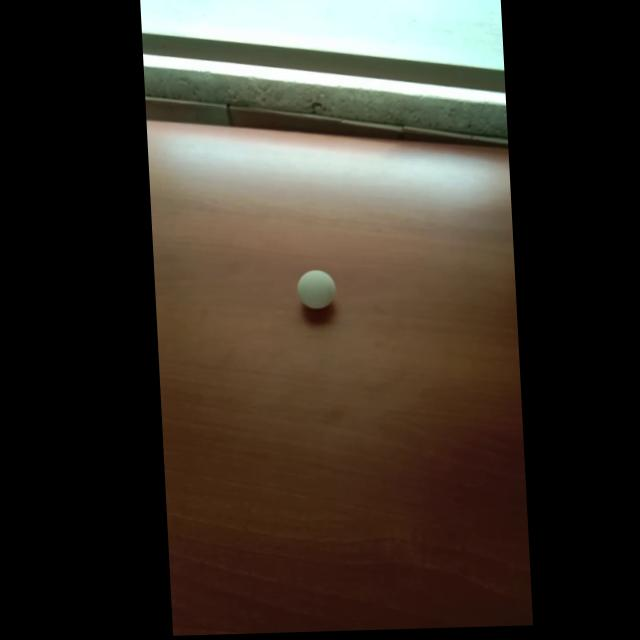white ball: (295, 269, 336, 310)
